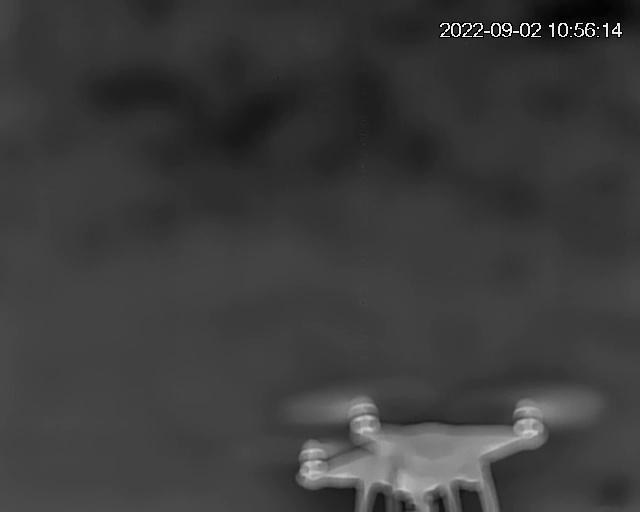DJI-Phantom: (294, 388, 573, 512)
